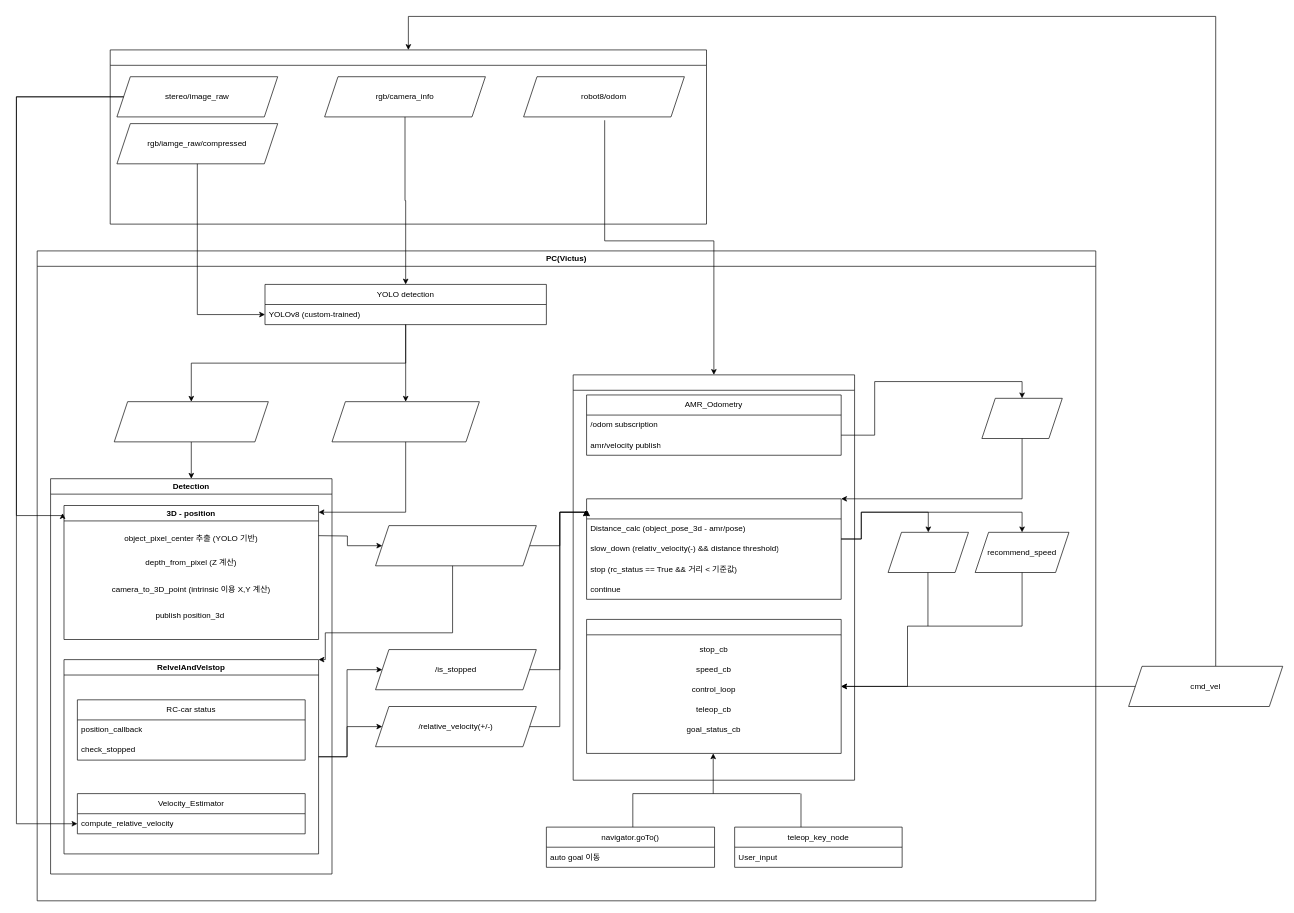
Some shapes in this 1294 by 913 pixel diagram are drawn without their labels. Here are the shapes that lost their labels. From the top down, the box of each, then its label:
(110, 49, 707, 224): AMR
(114, 401, 268, 442): car_detection_state
(331, 401, 479, 442): car_position
(981, 398, 1062, 439): amr/velocity
(375, 525, 536, 566): /position_3d
(586, 498, 841, 599): AMR_Distance_Control
(887, 532, 968, 573): should_stop
(573, 374, 855, 780): AMR Control
(586, 619, 841, 753): Velocity_Planner
